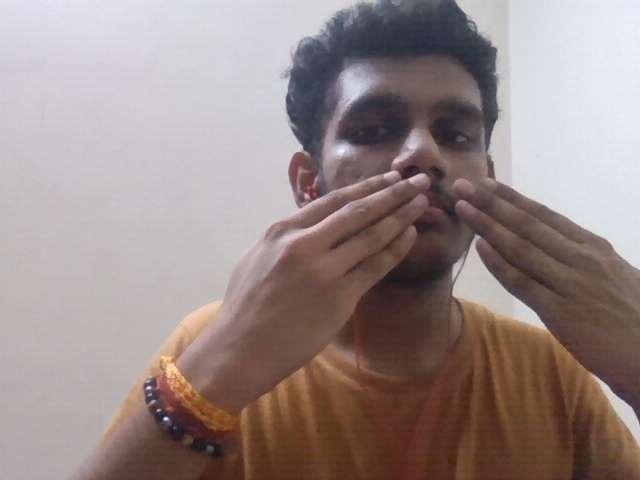thanks: (207, 168, 635, 365)
